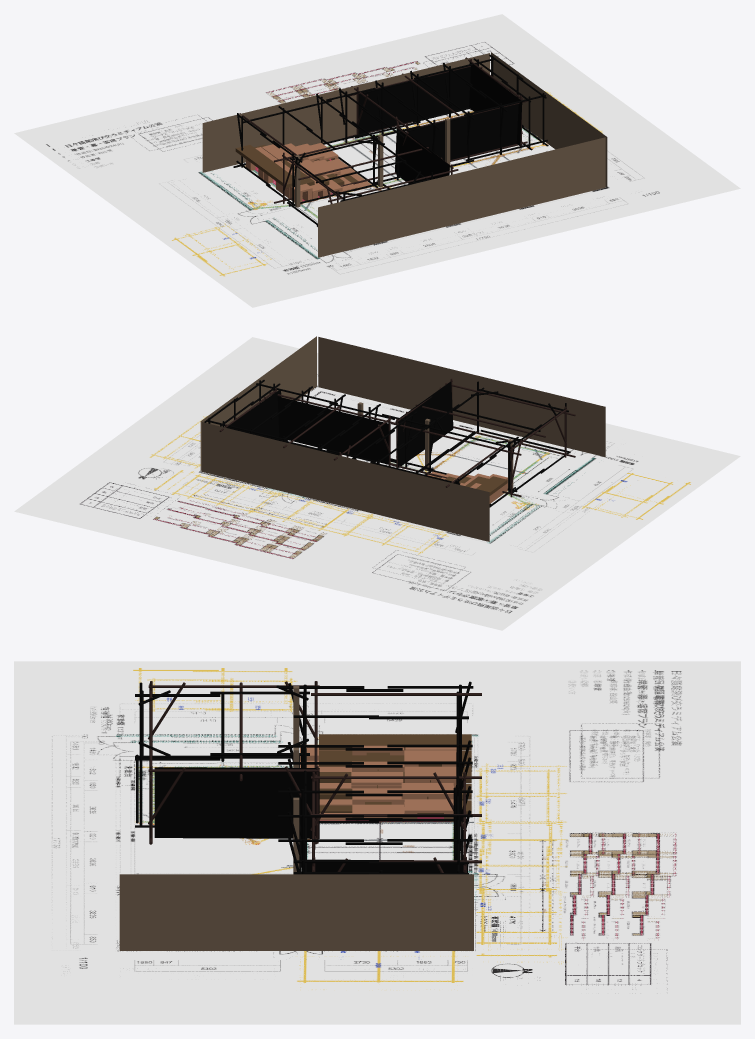
Rendered from plan.glb.
3 views of the same model, one above another, from view 1: azimuth 30°, elevation 25°; view 2: azimuth 150°, elevation 25°; view 3: azimuth 270°, elevation 25° (orthographic). The views are drawn at different scales.
Parts seen in each view (by area): view 1: スクリーンショット 2025-06-24 1.57.001, スクリーンショット 2025-06-24 1.57.40, Plane.002, Plane.001, Plane.004, Plane.003, Plane.006, Plane.007, Plane.005, Cube.017; view 2: スクリーンショット 2025-06-24 1.57.001, スクリーンショット 2025-06-24 1.57.40, Plane.001, Plane.002, Plane.006, Plane.003, Plane.007, Plane.005, Cube.017; view 3: スクリーンショット 2025-06-24 1.57.40, スクリーンショット 2025-06-24 1.57.001, Plane.003, Plane.007, Cube.017, Plane.005, Cylinder.076, Cylinder.078, Cylinder.079, Cylinder.080, Cylinder.081, Cylinder.077 (+8 smaller).
Part boxes in pixels (<box>): スクリーンショット 2025-06-24 1.57.001: <box>14,14,740,307</box>; スクリーンショット 2025-06-24 1.57.40: <box>35,23,714,299</box>; Plane.002: <box>318,137,605,257</box>; Plane.001: <box>202,53,489,172</box>; Plane.004: <box>358,67,470,134</box>; Plane.003: <box>491,52,607,186</box>; Plane.006: <box>408,104,518,160</box>; Plane.007: <box>395,126,449,183</box>; Plane.005: <box>469,62,522,145</box>; Cube.017: <box>235,145,357,187</box>; スクリーンショット 2025-06-24 1.57.001: <box>14,337,740,630</box>; スクリーンショット 2025-06-24 1.57.40: <box>39,345,719,621</box>; Plane.001: <box>202,422,489,541</box>; Plane.002: <box>318,337,605,456</box>; Plane.006: <box>277,396,388,464</box>; Plane.003: <box>200,336,316,471</box>; Plane.007: <box>396,381,453,467</box>; Plane.005: <box>226,389,281,439</box>; Cube.017: <box>434,476,507,495</box>; スクリーンショット 2025-06-24 1.57.40: <box>34,671,720,1014</box>; スクリーンショット 2025-06-24 1.57.001: <box>14,661,740,1024</box>; Plane.003: <box>119,874,473,950</box>; Plane.007: <box>154,767,319,838</box>; Cube.017: <box>319,734,471,813</box>; Plane.005: <box>307,859,467,872</box>; Cylinder.076: <box>278,810,472,863</box>; Cylinder.078: <box>278,786,472,837</box>; Cylinder.079: <box>278,740,472,787</box>; Cylinder.080: <box>278,757,472,797</box>; Cylinder.081: <box>279,681,473,735</box>; Cylinder.077: <box>278,835,472,871</box>.
Size of the model in its own units: 30.16 by 3.21 by 25.51.
Materials: 114 (2 with a texture image).
